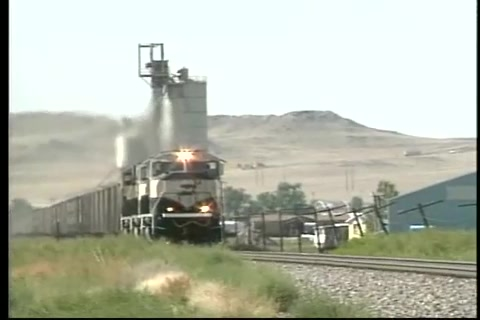train: (33, 148, 228, 243)
